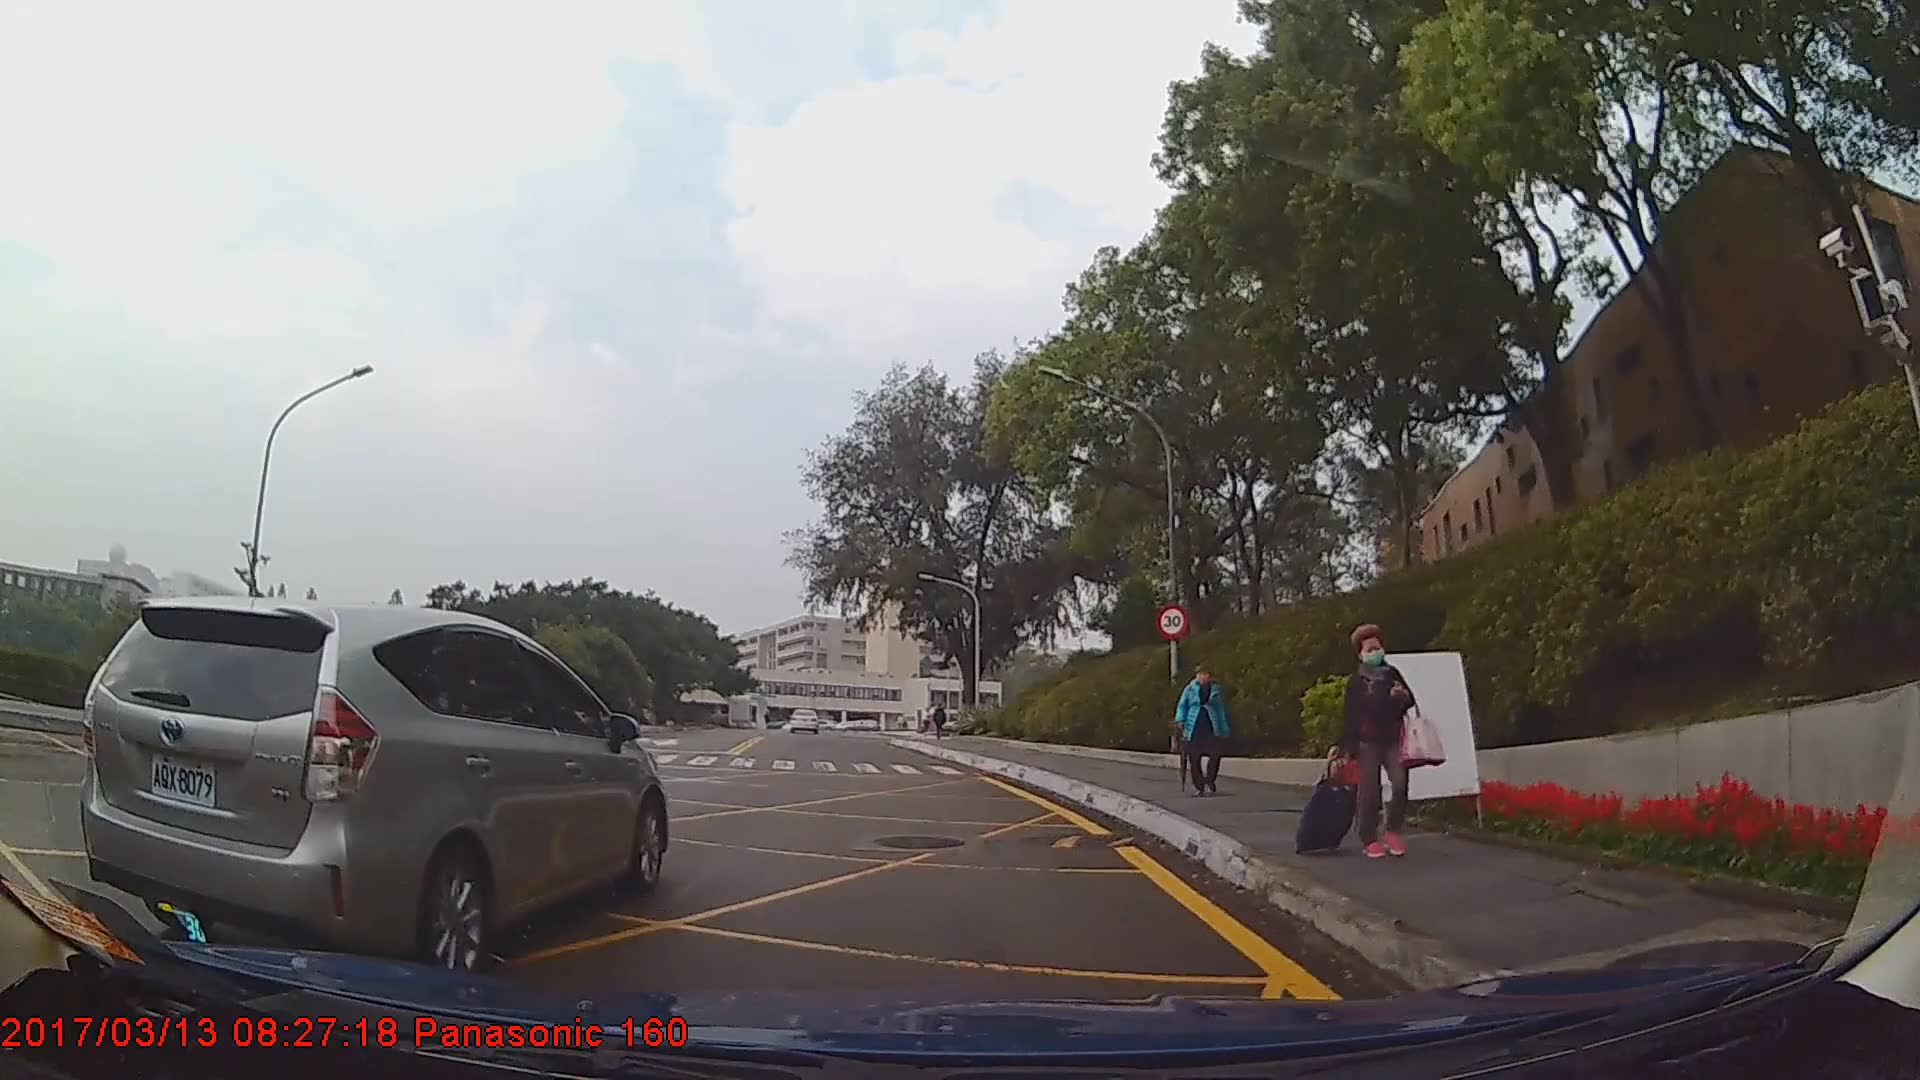pedestrian: (1295, 625, 1446, 861), (1172, 667, 1233, 798)
vehicle: (83, 594, 670, 973), (786, 705, 820, 732)
